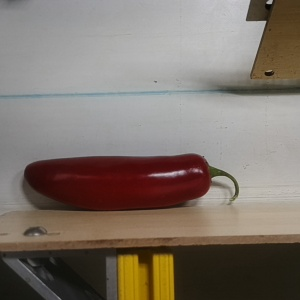Cut Point: (191, 153, 222, 198)
